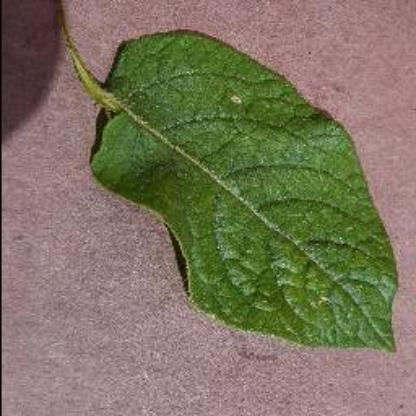Healthy-plant: (48, 30, 404, 358)
